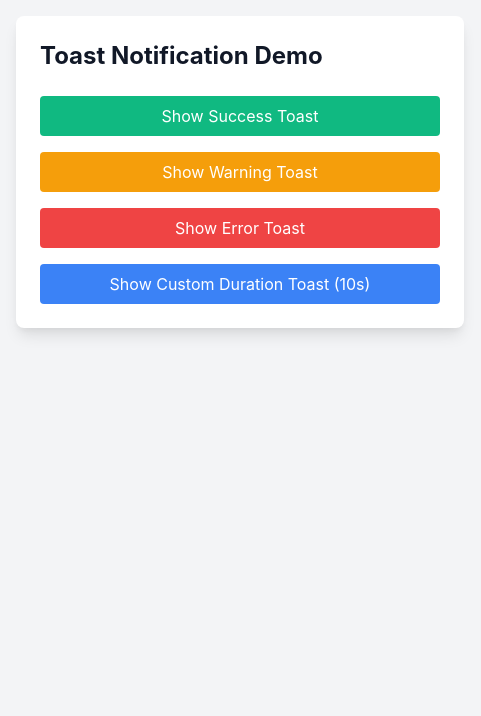
Test case: ToastDemo › shows error toast when error button is clicked
Click the button "Show Error Toast". click: coordinates (240, 228)
box: [40, 208, 440, 248]
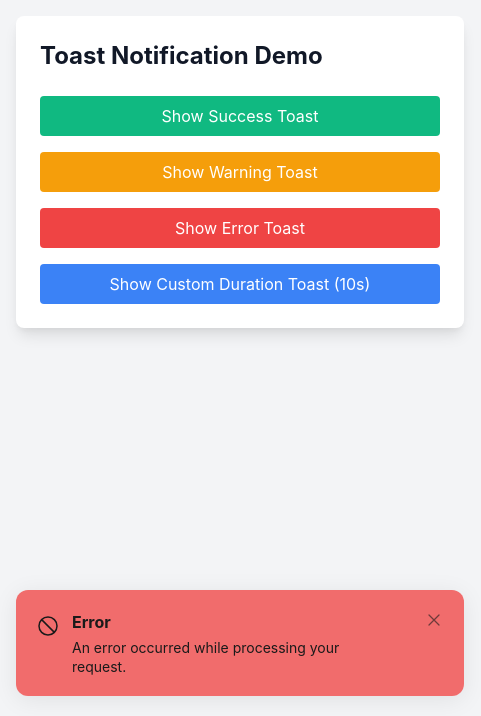
Now the text "An error occurred while processing your request." is shown, box [72, 638, 339, 675]
